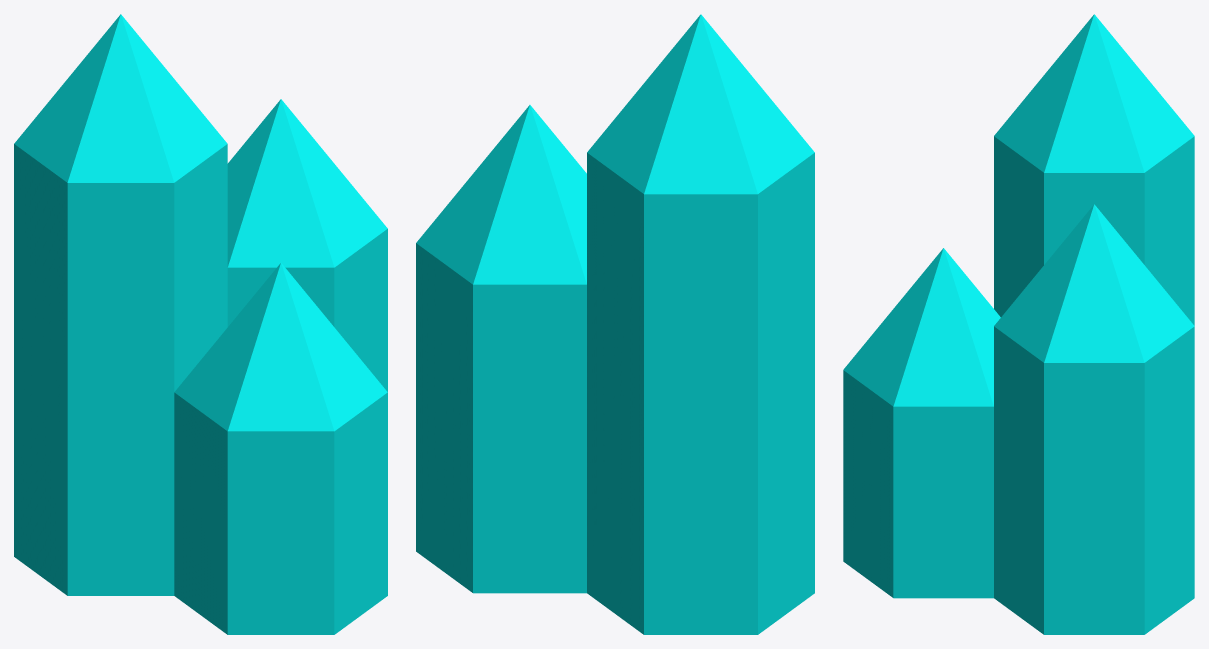
File: Proto_Crystal_Cluster_01.fbx
3 renders of one model, left to right at view 1: azimuth 30°, elevation 25°; view 2: azimuth 150°, elevation 25°; view 3: azimuth 270°, elevation 25°, orthographic. The views are drawn at different scales.
Parts seen in each view (by area): view 1: Proto_Crystal_Cluster_01; view 2: Proto_Crystal_Cluster_01; view 3: Proto_Crystal_Cluster_01.
Part boxes in pixels (left/top/right/bottom): Proto_Crystal_Cluster_01: left=14, top=14, right=387, bottom=634; Proto_Crystal_Cluster_01: left=416, top=14, right=814, bottom=634; Proto_Crystal_Cluster_01: left=843, top=14, right=1194, bottom=634.
Bounding box in the file's own units: 0.608 × 0.9844 × 0.6142.
